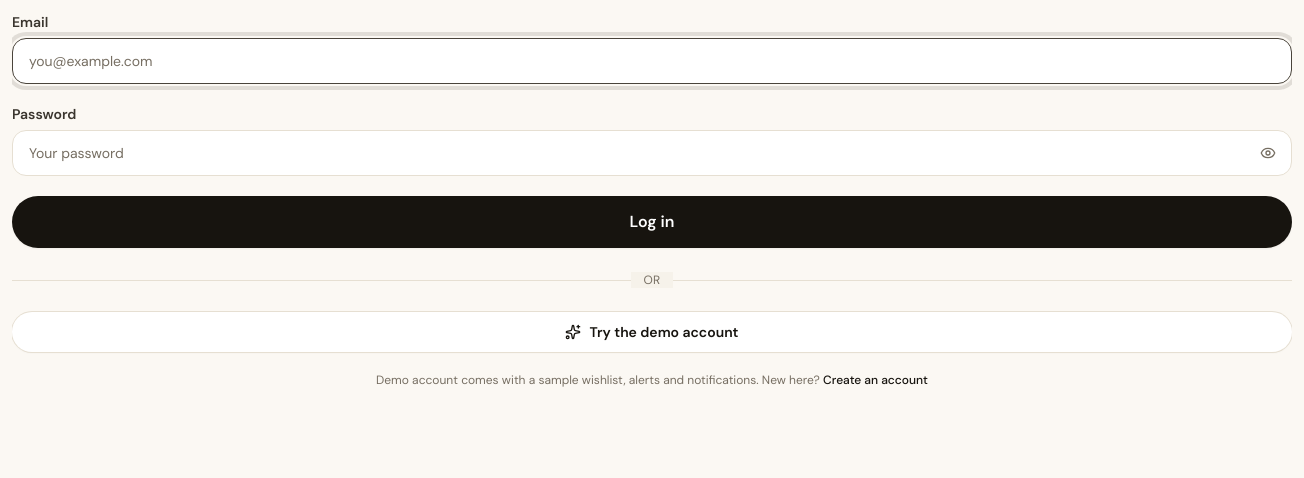
Test: LoginForm › shows the rate-limit and network errors from the server
Type "sara@example.com" into the field labelled "Email" at (652,61), box x1=12 y1=38 x2=1292 y2=84
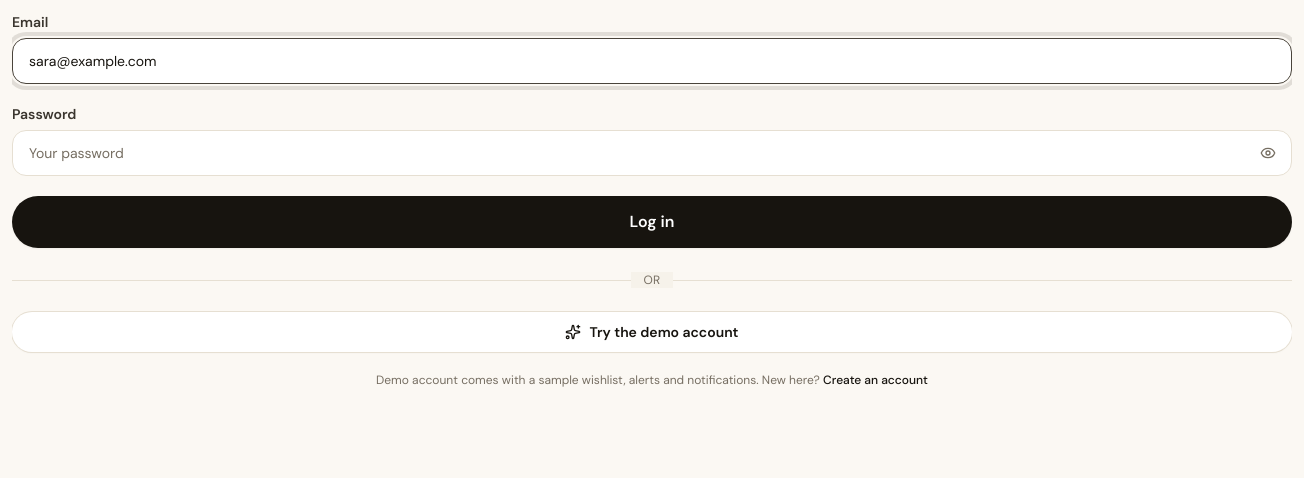
Type "x" into the password field labelled "Password" at (652,153), box x1=12 y1=130 x2=1292 y2=176
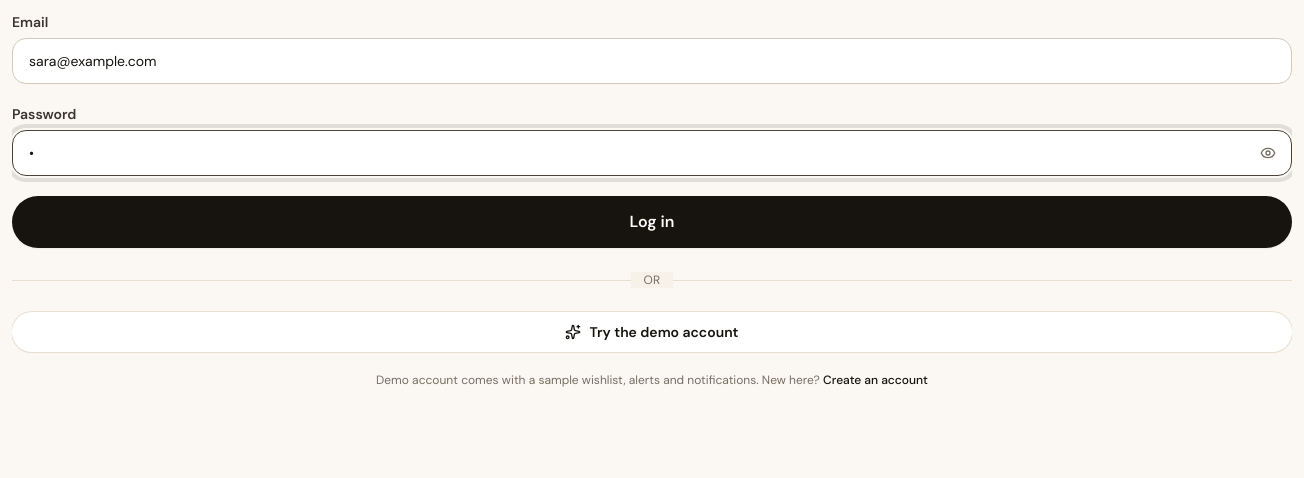
Click the button "Log in" at (652,222), box x1=12 y1=196 x2=1292 y2=248
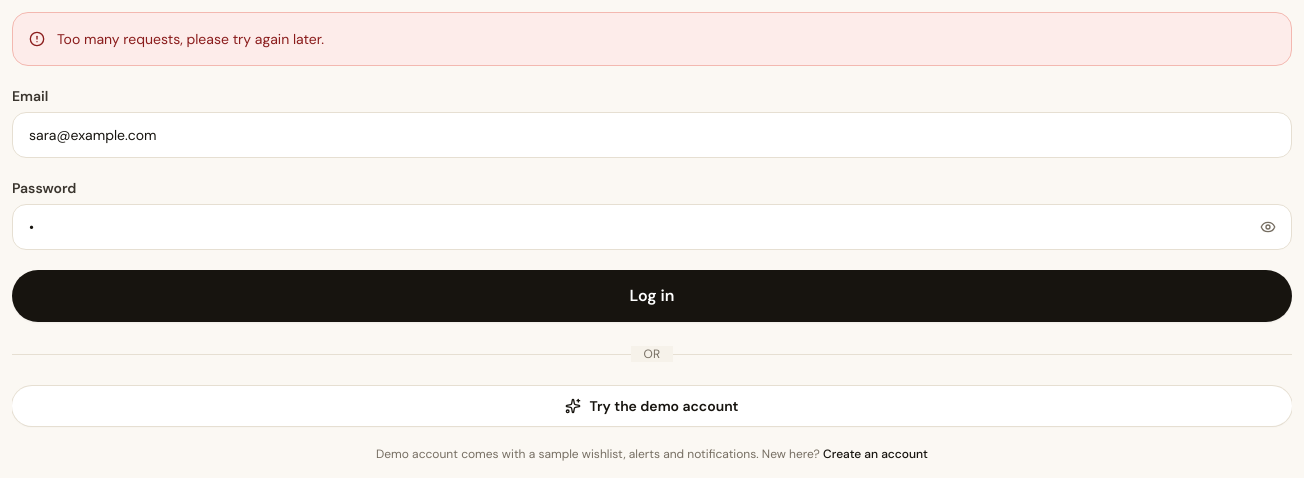
Check: the text "Too many requests, please try again later." is shown, box x1=57 y1=29 x2=324 y2=49
